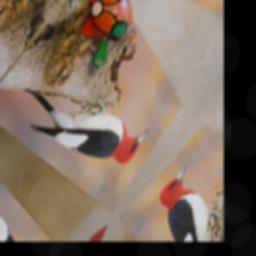Woodpecker: (8, 44, 153, 199)
